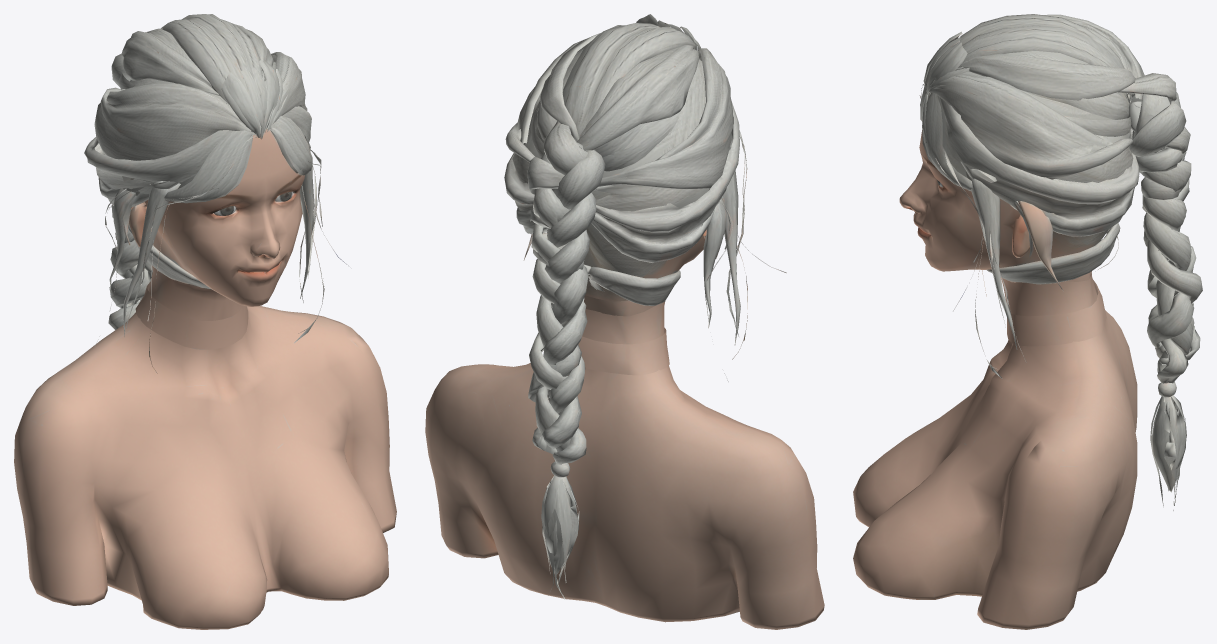
File: hair-1.glb
3 views of the same model, side by side, from view 1: azimuth 30°, elevation 25°; view 2: azimuth 150°, elevation 25°; view 3: azimuth 270°, elevation 25° (orthographic). The views are drawn at different scales.
Bounding box in the file's own units: 0.6792 × 0.9512 × 0.5767.
Materials: 1 (1 with a texture image).
